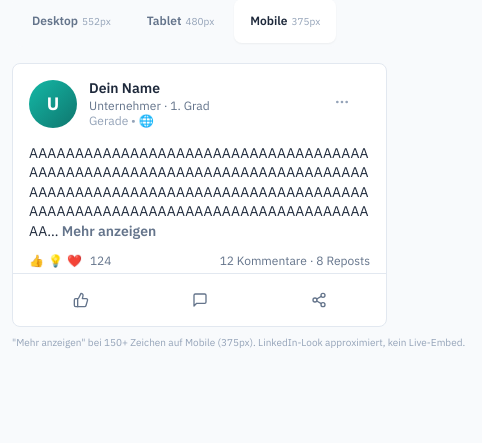
PostPreview › collapses text on Weniger anzeigen click
This screenshot has width=482, height=443.
Click the button "Mehr anzeigen" at (109, 231), box [62,221,156,241]
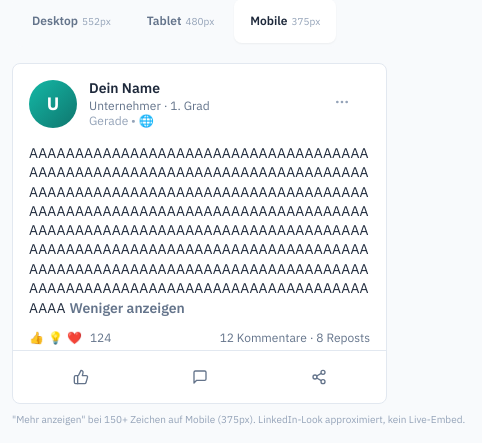
Click the button "Weniger anzeigen" at (127, 308), box [70,298,185,318]
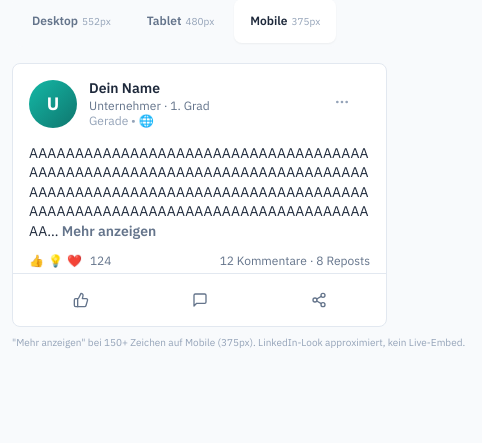
Check: the button "Mehr anzeigen" is shown, box [62,221,156,241]
